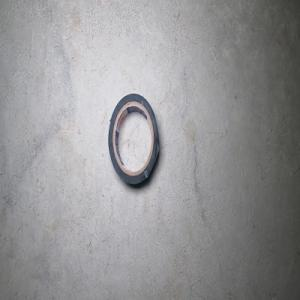Tape: (108, 93, 159, 187)
